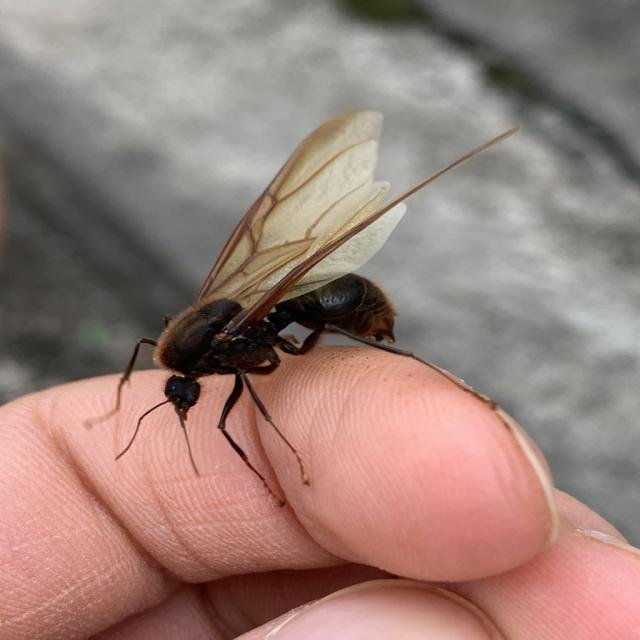Alive-Male-Alate: (84, 110, 520, 508)
